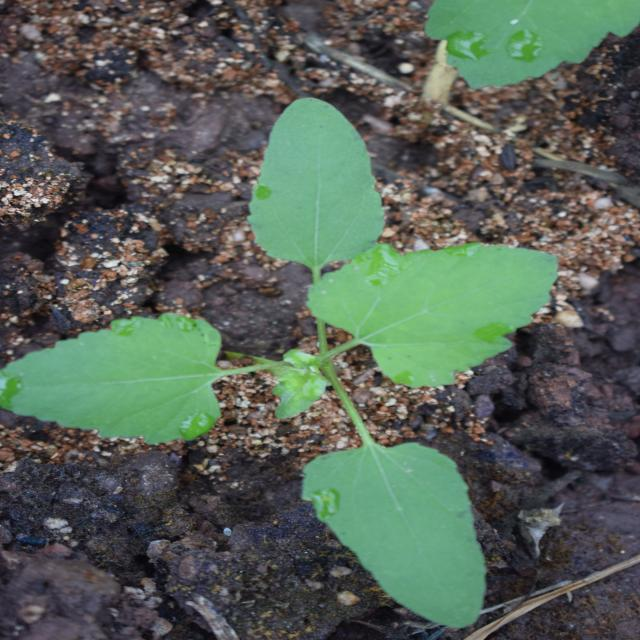cocklebur: (50, 39, 535, 512)
